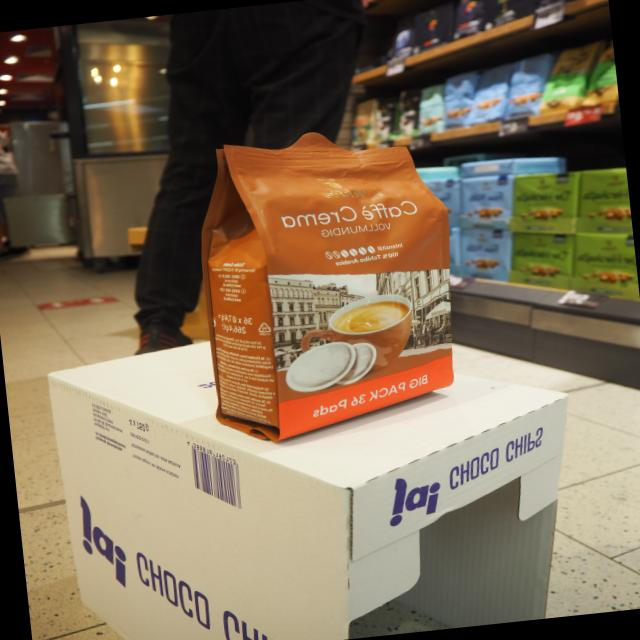CC Vollmundig: (184, 111, 467, 463)
